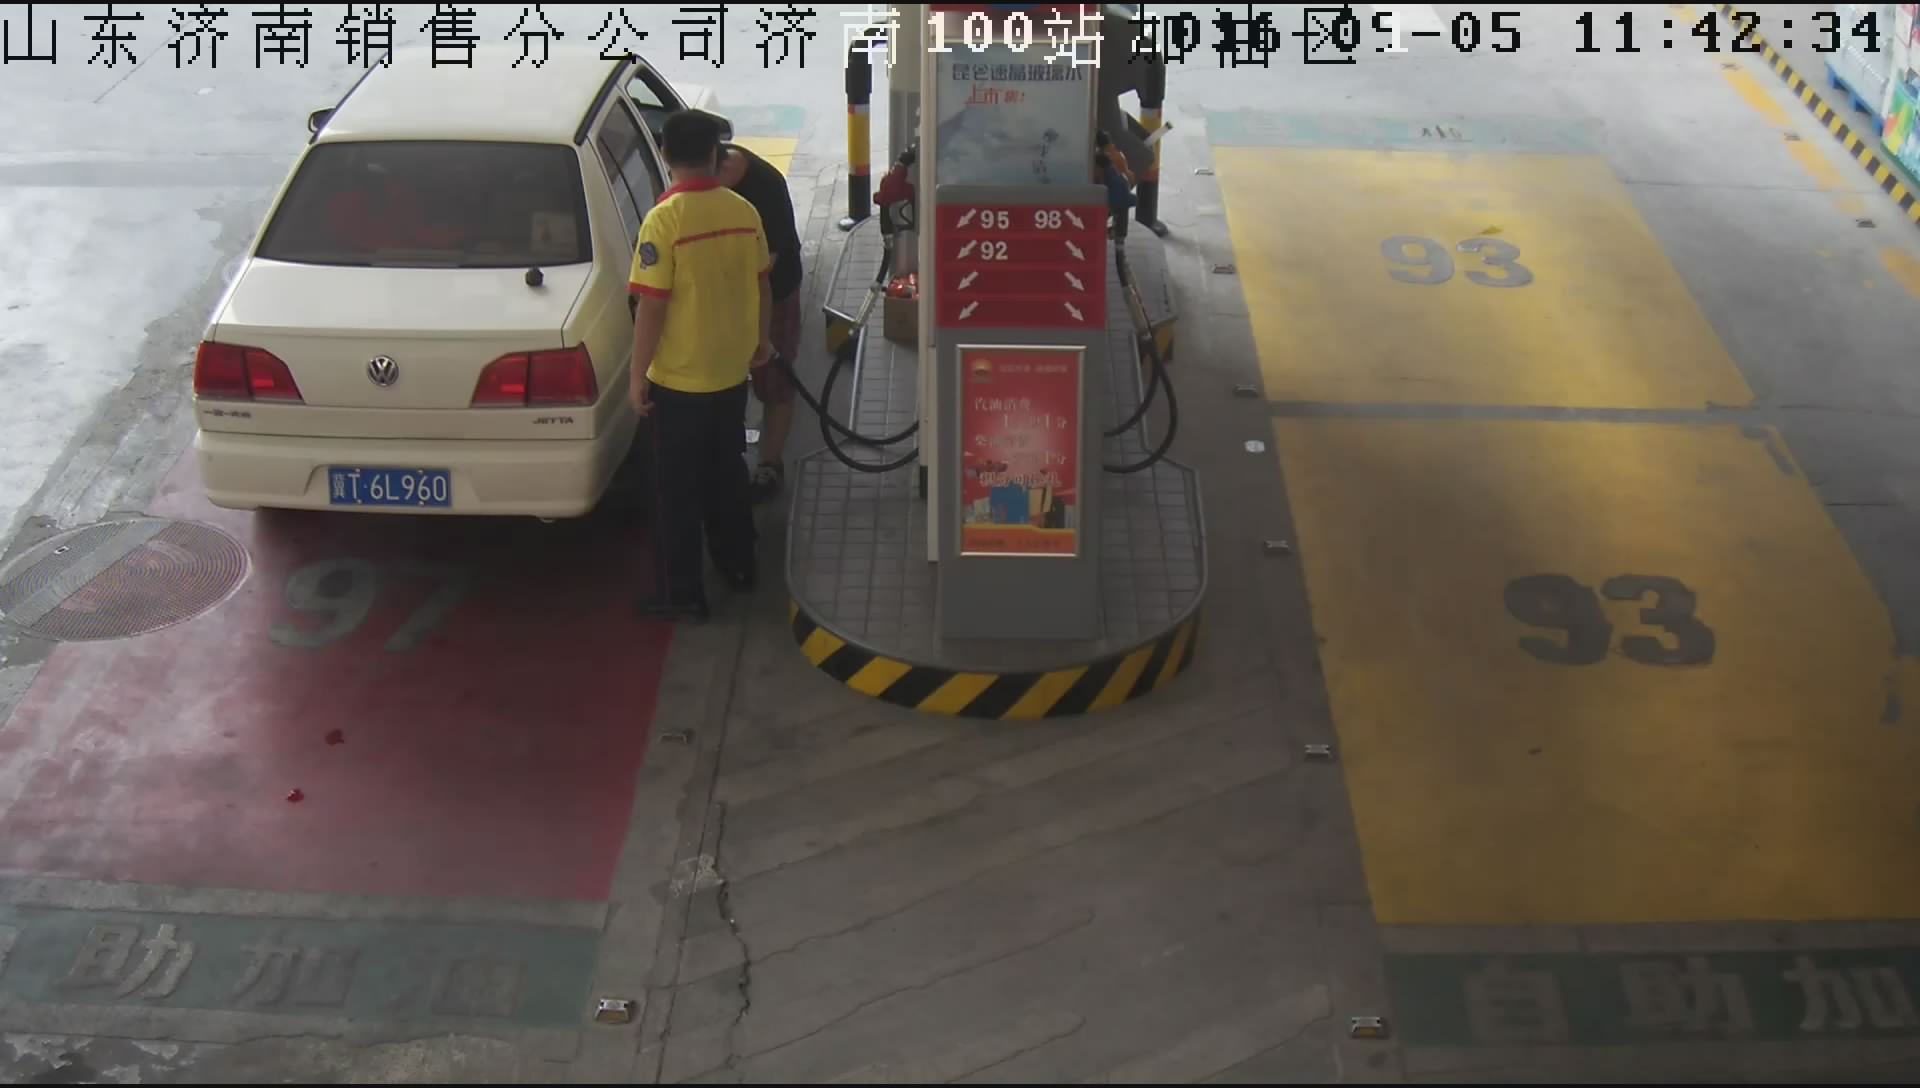blue: (327, 467, 454, 513)
